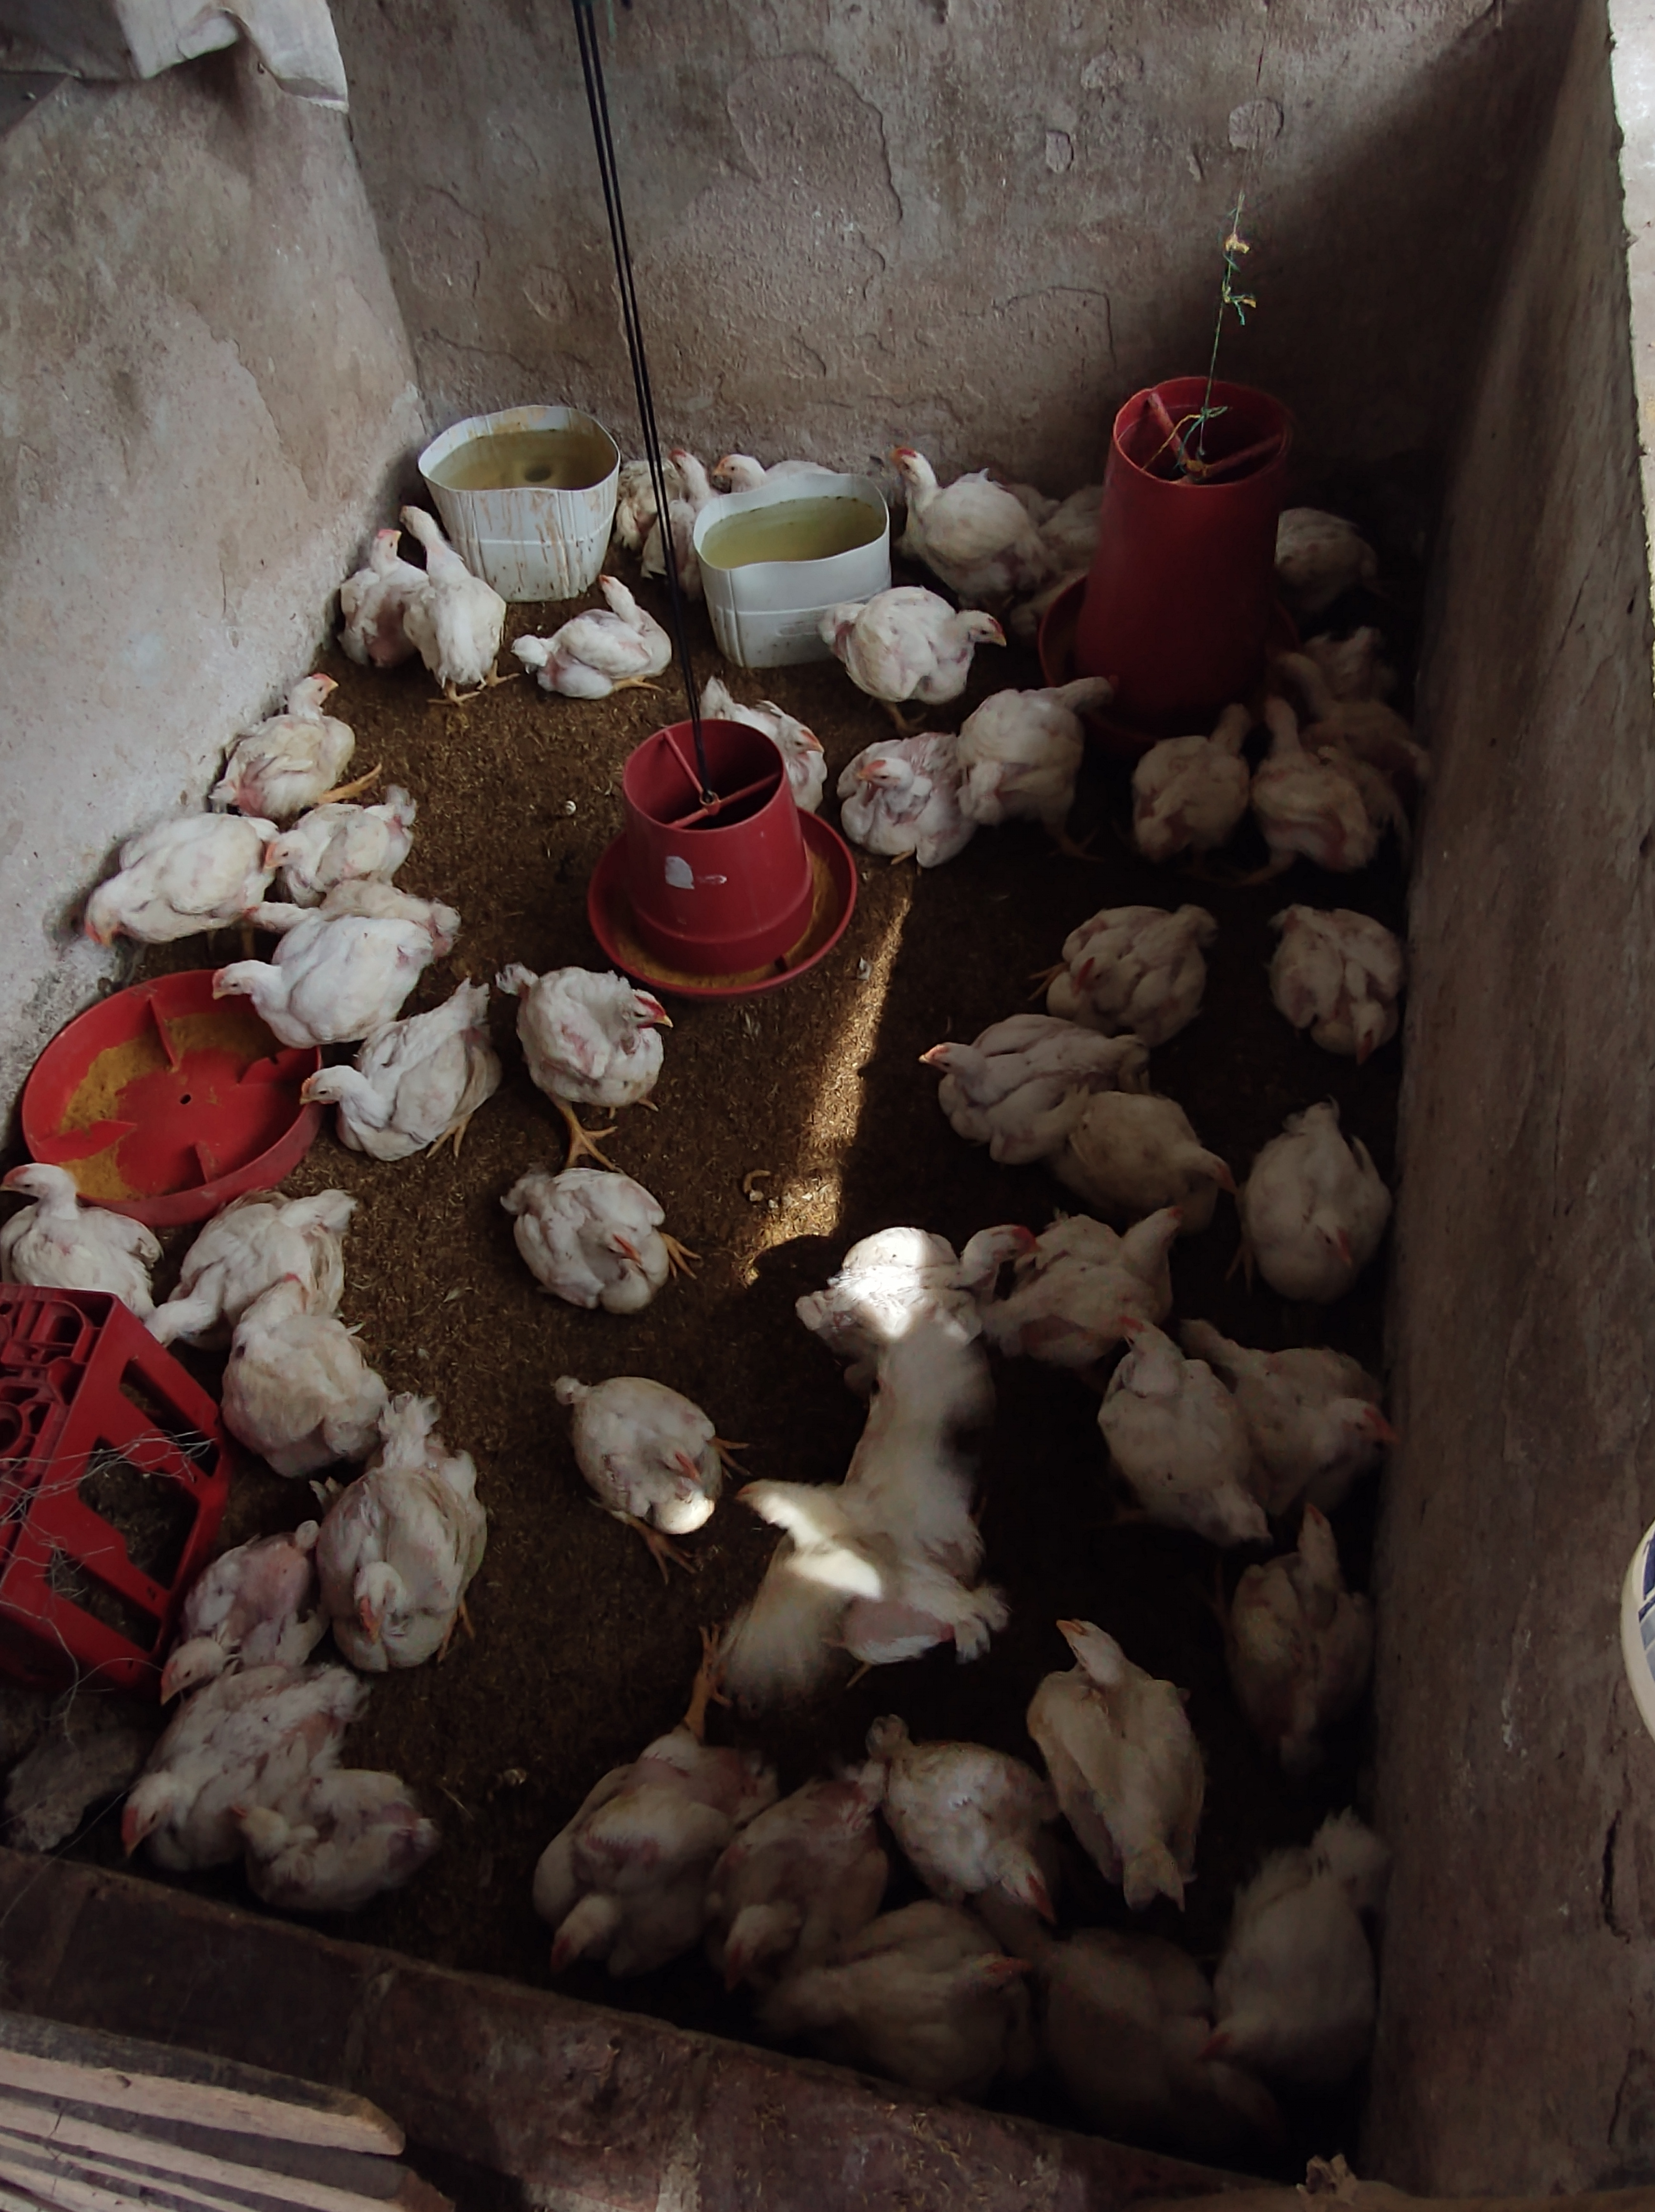Pollos: (739, 1461, 1012, 1656), (530, 1742, 716, 1970), (1099, 1306, 1264, 1549), (1200, 1849, 1375, 2071), (1036, 1616, 1194, 1857), (711, 1788, 867, 2010), (148, 1183, 349, 1351), (798, 1216, 1047, 1351), (840, 1911, 1034, 2068), (231, 1275, 395, 1454), (913, 1732, 1062, 1923), (1252, 1108, 1394, 1304), (155, 1532, 301, 1711), (297, 1026, 482, 1163), (1257, 1499, 1363, 1737), (207, 911, 386, 1052), (509, 962, 678, 1104), (329, 1482, 455, 1664), (967, 671, 1114, 823), (918, 1010, 1093, 1137), (1257, 696, 1380, 866), (575, 1381, 725, 1515), (878, 447, 1034, 574), (528, 1176, 678, 1301), (402, 503, 508, 678), (1278, 906, 1405, 1052), (1137, 696, 1257, 849), (1050, 906, 1217, 1014), (82, 826, 233, 944), (0, 1160, 139, 1285), (226, 668, 349, 809), (1029, 1196, 1191, 1303), (859, 584, 1014, 692), (544, 565, 671, 694), (261, 791, 415, 896), (1274, 1351, 1399, 1476), (1113, 1089, 1241, 1200), (841, 736, 956, 850), (111, 1739, 223, 1857), (219, 1798, 367, 1887), (348, 523, 414, 661), (706, 447, 847, 492), (770, 706, 829, 798)
